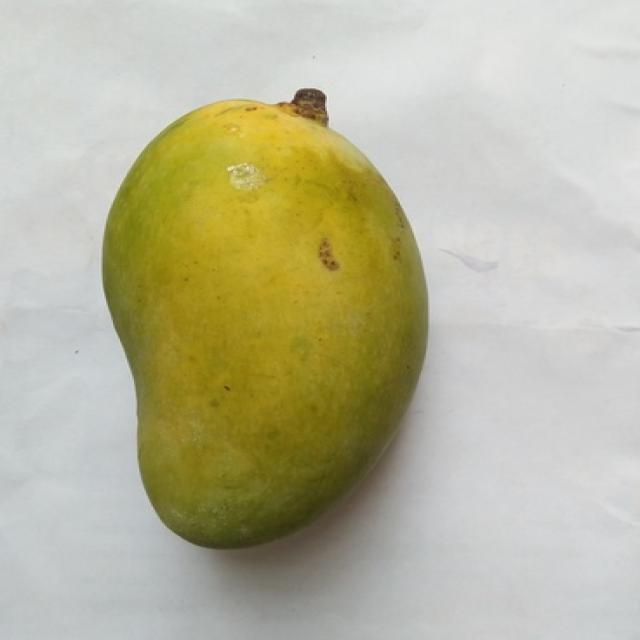Mango: (104, 100, 426, 544)
